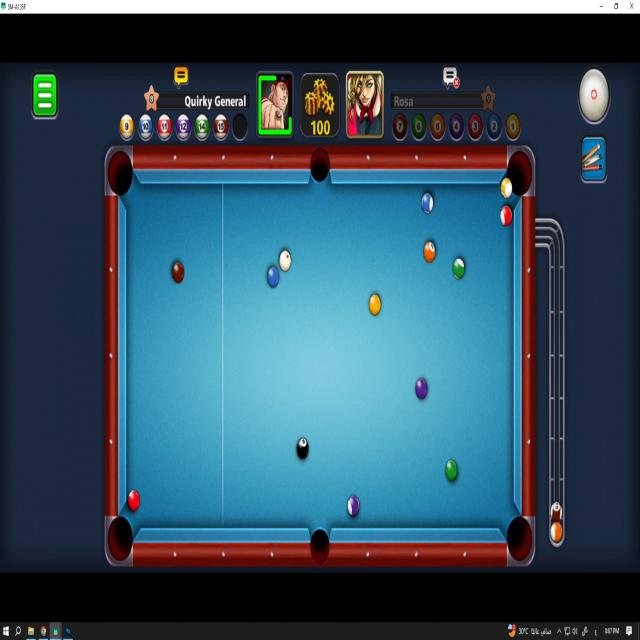object_ball: (347, 495, 360, 517), (452, 258, 464, 280), (296, 438, 308, 460), (424, 241, 436, 263), (172, 262, 184, 283), (446, 460, 458, 481), (501, 177, 512, 199), (267, 267, 279, 287), (416, 378, 427, 399), (369, 294, 380, 315), (501, 206, 512, 226), (422, 193, 433, 213), (128, 491, 139, 510)
white_cue_ball: (279, 251, 290, 271)
